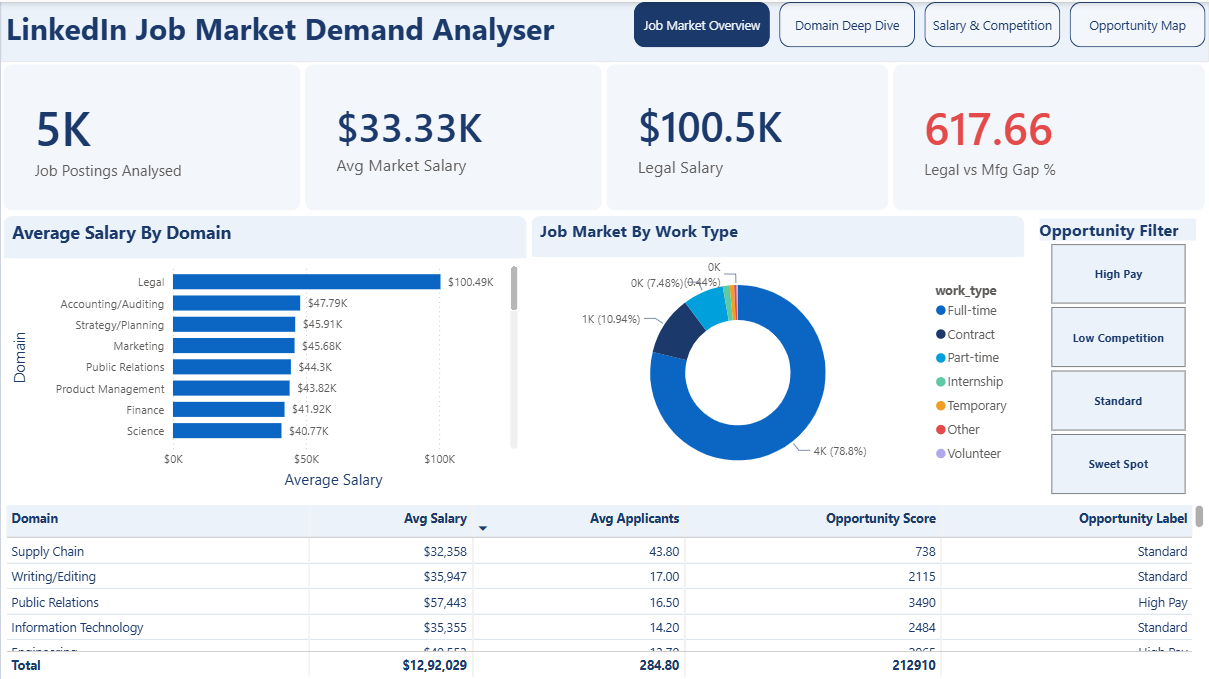

What the dashboard file says about the page in this screenshot:
{"tool":"powerbi","page":{"name":"Job Market Overview","canvas":[1280,720],"ordinal":0},"visuals":[{"type":"textbox","box":[0,0,1280,64],"z":0},{"type":"cardVisual","fields":{"Data":["Measures (4).Avg Market Salary"]},"box":[320,64,320,160],"z":1000},{"type":"cardVisual","fields":{"Data":["Measures (4).Legal Salary"]},"box":[640,64,304,160],"z":2000},{"type":"cardVisual","fields":{"Data":["Measures (4).Legal vs Mfg Gap %"]},"box":[944,64,336,160],"z":3000},{"type":"clusteredBarChart","title":"Average Salary By Domain","fields":{"Category":["q6_domain_salary.domain"],"Y":["Sum(q6_domain_salary.avg_salary)"]},"box":[0,224,560,304],"z":4000},{"type":"donutChart","title":"Job Market By Work Type","fields":{"Category":["q2_work_type.work_type"],"Y":["Sum(q2_work_type.job_count)"]},"box":[560,224,528,304],"z":5000},{"type":"tableEx","fields":{"Values":["q8_opportunity_score.domain","Sum(q8_opportunity_score.avg_salary)","Sum(q8_opportunity_score.avg_applicants)","Sum(q8_opportunity_score.opportunity_score)","q8_opportunity_score.opportunity_label"]},"box":[0,528,1280,192],"z":6000},{"type":"slicer","fields":{"Values":["q8_opportunity_score.opportunity_label"]},"box":[1088,224,192,304],"z":7000},{"type":"pageNavigator","box":[672,0,608,48],"z":8000},{"type":"cardVisual","fields":{"Data":["Measures (4).Job Postings Analysed"]},"box":[0,64,320,160],"z":9000}]}

Visuals, with their boxes in screenshot pixels (x1, y1, x2, y2), scaled from the page's 1280x720 canvas onto the 1209x679 screenshot:
textbox: <bbox>0, 0, 1208, 60</bbox>
cardVisual - Measures (4).Avg Market Salary: <bbox>302, 60, 604, 211</bbox>
cardVisual - Measures (4).Legal Salary: <bbox>604, 60, 892, 211</bbox>
cardVisual - Measures (4).Legal vs Mfg Gap %: <bbox>892, 60, 1208, 211</bbox>
"Average Salary By Domain" clusteredBarChart: <bbox>0, 211, 529, 498</bbox>
"Job Market By Work Type" donutChart: <bbox>529, 211, 1028, 498</bbox>
tableEx - q8_opportunity_score.domain x Sum(q8_opportunity_score.avg_salary): <bbox>0, 498, 1208, 678</bbox>
slicer - q8_opportunity_score.opportunity_label: <bbox>1028, 211, 1208, 498</bbox>
pageNavigator: <bbox>635, 0, 1208, 45</bbox>
cardVisual - Measures (4).Job Postings Analysed: <bbox>0, 60, 302, 211</bbox>
